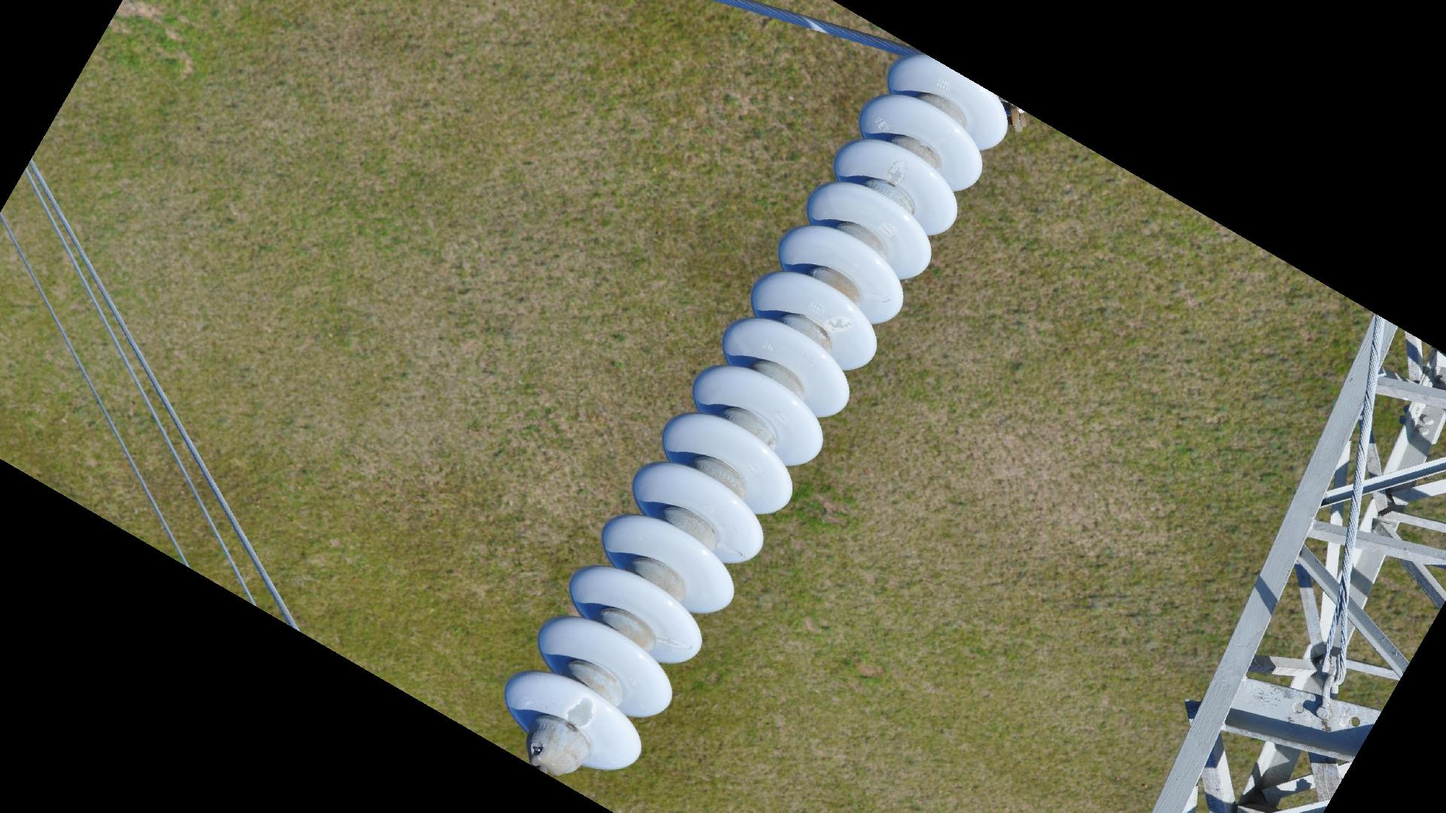insulator: (502, 44, 1016, 777)
insulator_flashover: (566, 694, 596, 729)
